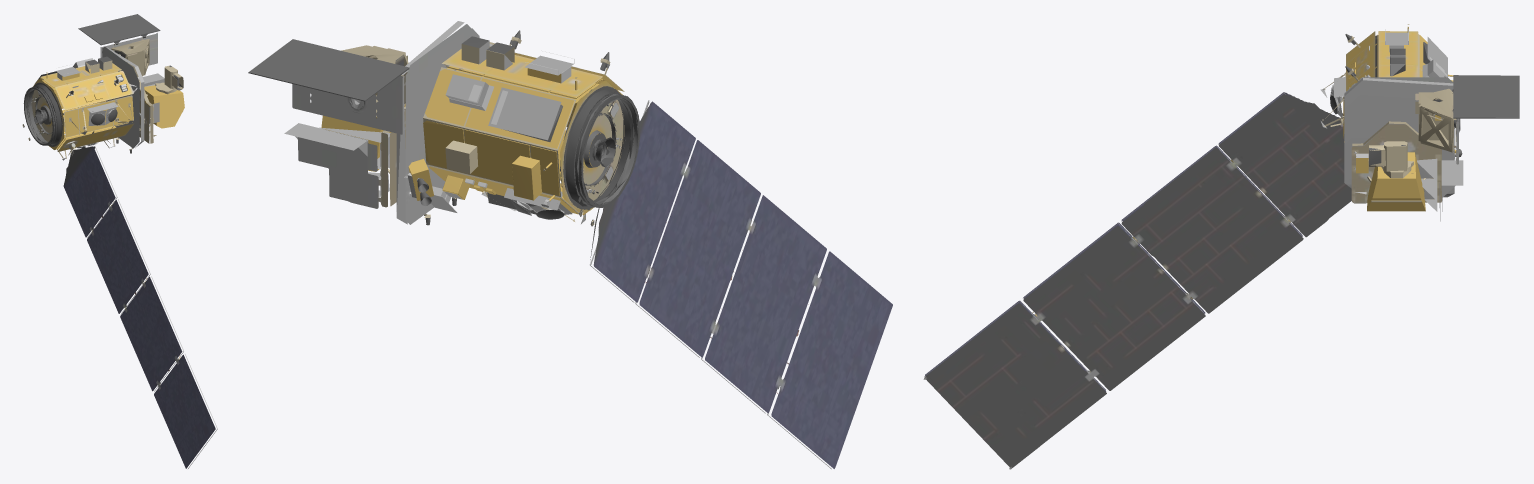
The picture shows the model from 3 angles, left to right: view 1: azimuth 30°, elevation 25°; view 2: azimuth 150°, elevation 25°; view 3: azimuth 270°, elevation 25°; orthographic projection. The views are drawn at different scales.
Visible parts, largest first — view 1: Layer_0; view 2: Layer_0; view 3: Layer_0.
Boxes of the visible parts, x1=… form: Layer_0: x1=22, y1=14, x2=217, y2=468; Layer_0: x1=248, y1=21, x2=892, y2=469; Layer_0: x1=923, y1=24, x2=1519, y2=469.
Size of the model in its own units: 4.97 by 10.12 by 12.25.
16 materials, 2 textured.
